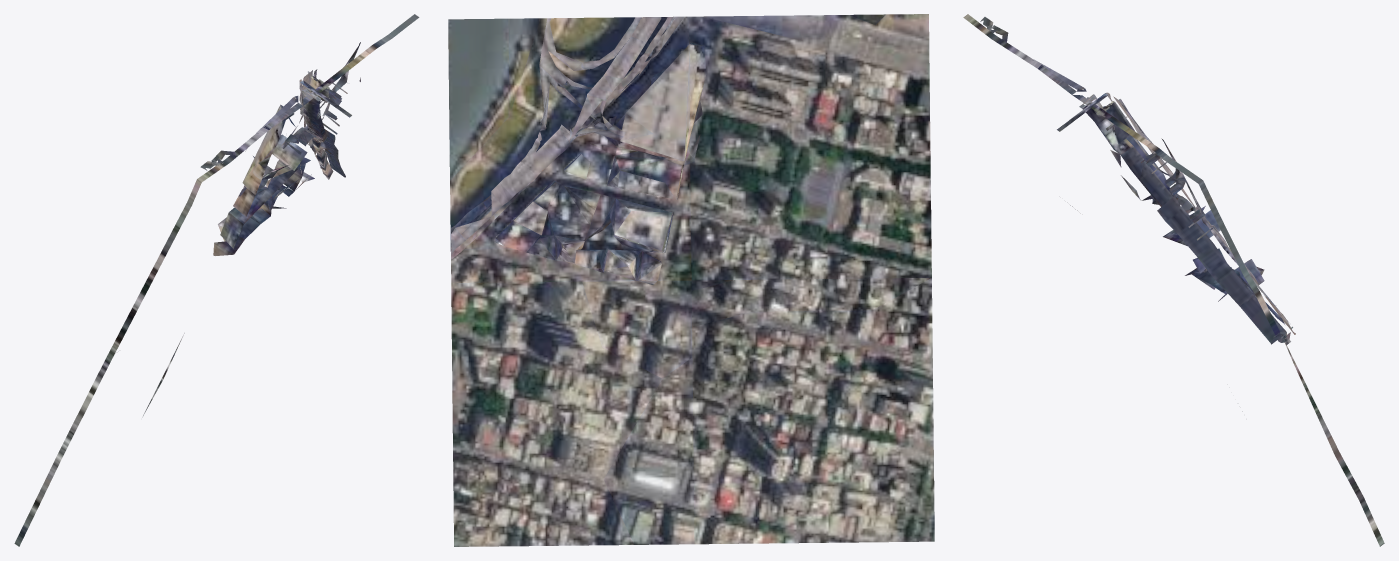
The picture shows the model from 3 angles, left to right: view 1: azimuth 30°, elevation 25°; view 2: azimuth 150°, elevation 25°; view 3: azimuth 270°, elevation 25°; orthographic projection. The views are drawn at different scales.
Bounding box in the file's own units: 612 × 565 × 513.
1 material, 1 textured.
